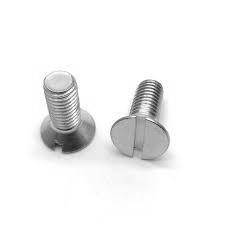slotted: (111, 116, 171, 163)
